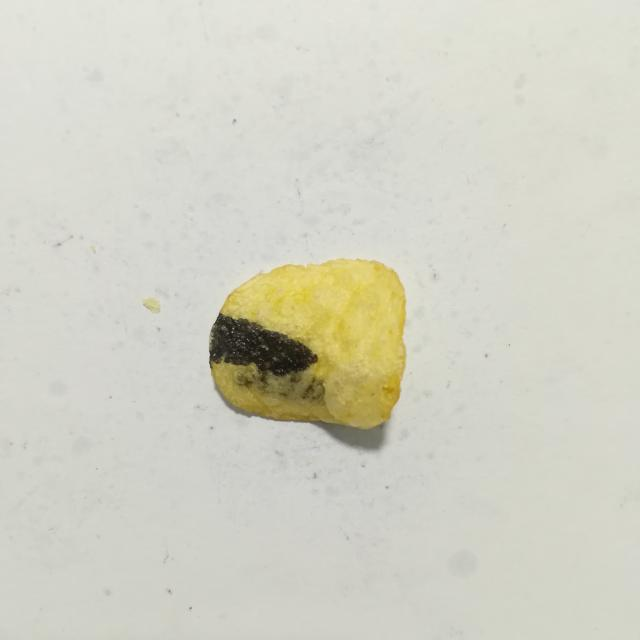chip: (210, 259, 406, 429)
damaged: (209, 313, 317, 376)
semi-damaged: (236, 363, 324, 402)
